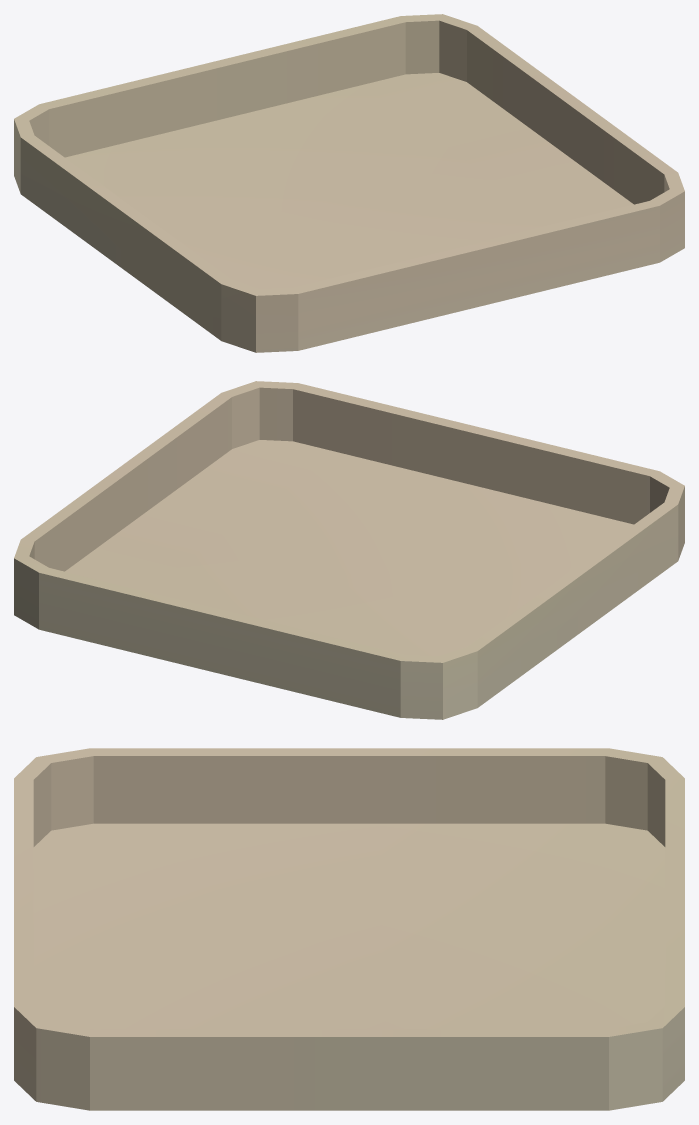
The model's file is Khay.fbx.
3 views of the same model, one above another, from view 1: azimuth 30°, elevation 25°; view 2: azimuth 150°, elevation 25°; view 3: azimuth 270°, elevation 25° (orthographic). The views are drawn at different scales.
Visible parts, largest first — view 1: Khay; view 2: Khay; view 3: Khay.
Boxes of the visible parts, bbox=[...] form: Khay: bbox=[14, 14, 684, 352]; Khay: bbox=[14, 381, 684, 719]; Khay: bbox=[14, 748, 684, 1110].
Bounding box in the file's own units: 88.7 × 10.57 × 87.14.
